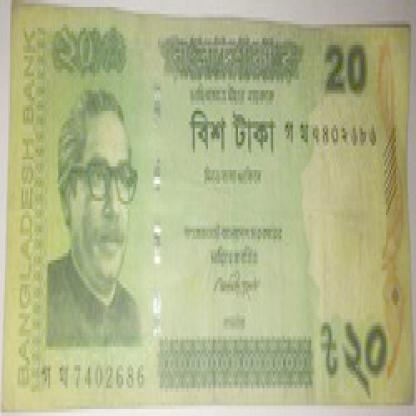Twenty: (48, 21, 135, 100), (183, 100, 280, 170), (322, 312, 390, 392), (316, 31, 376, 101)
